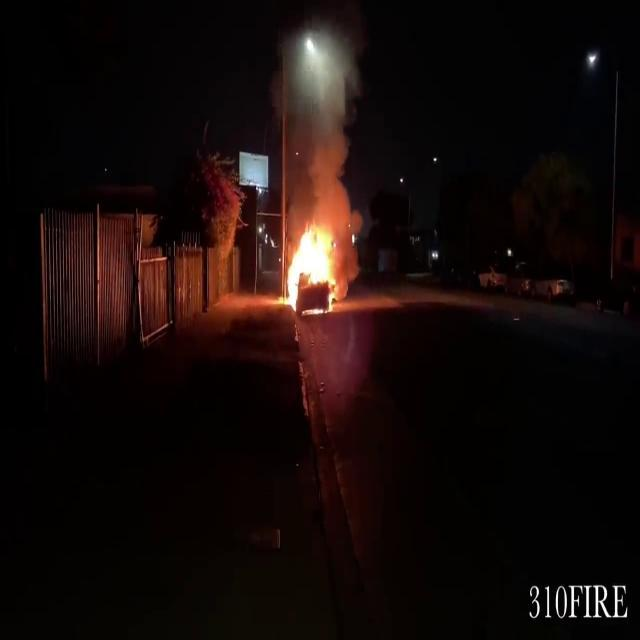Fire: (280, 215, 343, 312)
Smoke: (286, 34, 364, 218)
